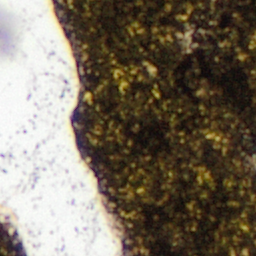cement_matrix: (55, 0, 255, 255), (0, 225, 24, 255)
gravel_crushed_stones: (0, 0, 126, 255)
